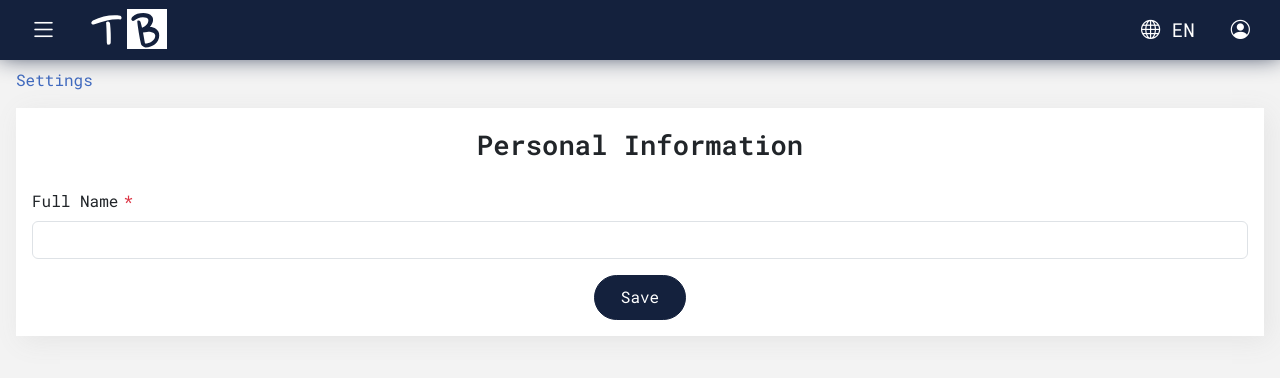
Test: SettingsView › submit invalid fullname
Click the button "Save".
click(640, 297)  # box x1=594 y1=275 x2=686 y2=320
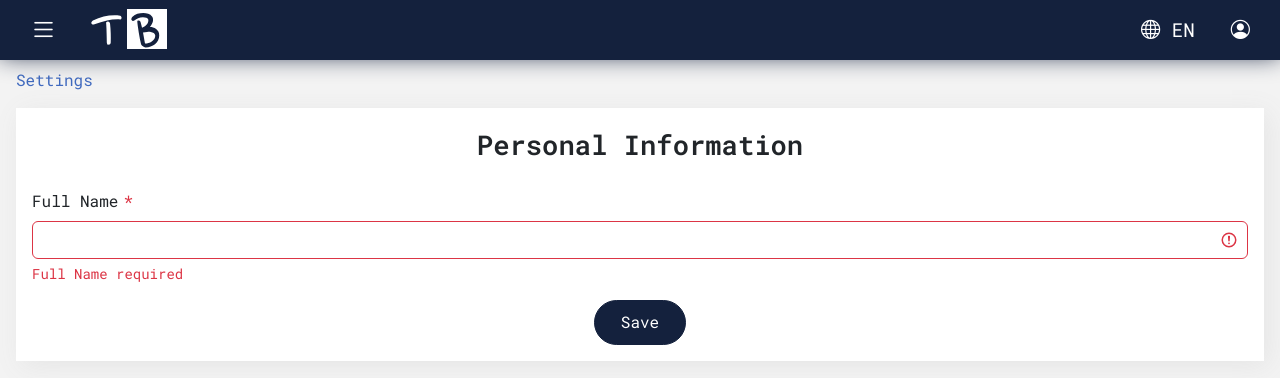
Expected: the text with class "invalid-feedback" reads "Full Name required", x1=32 y1=264 x2=183 y2=283
